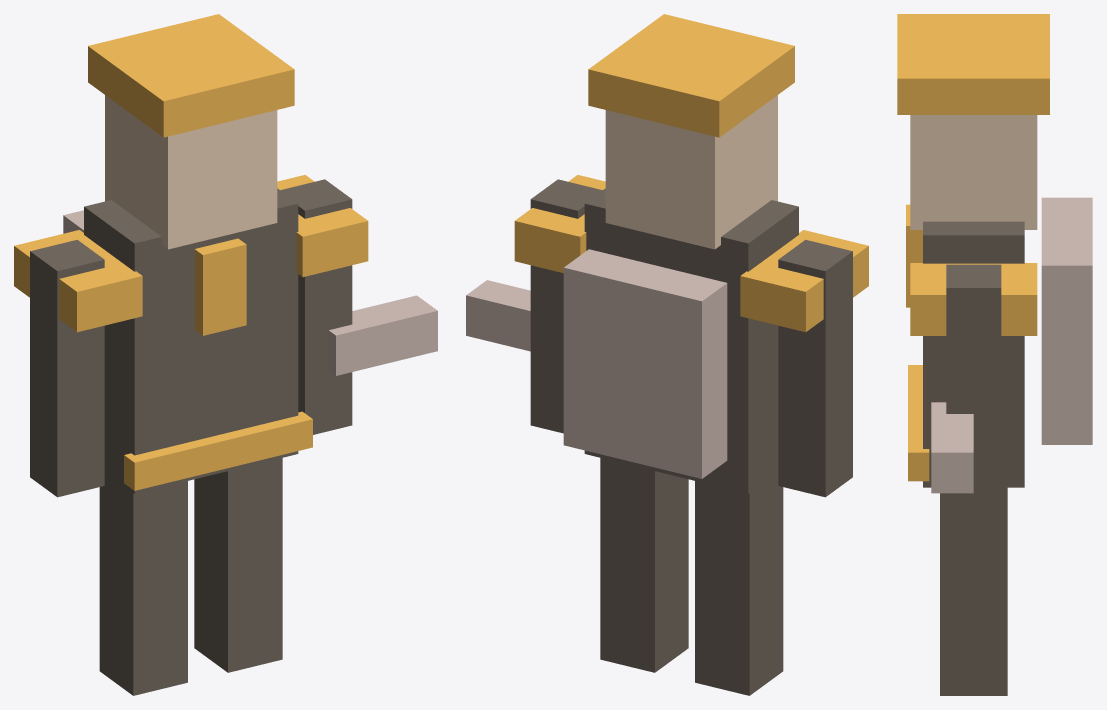
Rendered from 03_asha_holloway_custodian_near_maintenance.glb.
3 renders of one model, left to right at view 1: azimuth 30°, elevation 25°; view 2: azimuth 150°, elevation 25°; view 3: azimuth 270°, elevation 25°, orthographic.
Parts seen in each view (by area): view 1: Asha Holloway, Custodian near Maintenance; view 2: Asha Holloway, Custodian near Maintenance; view 3: Asha Holloway, Custodian near Maintenance.
Part boxes in pixels (box(x1,y1,x2,y2)): Asha Holloway, Custodian near Maintenance: box(14, 14, 437, 695); Asha Holloway, Custodian near Maintenance: box(466, 14, 868, 695); Asha Holloway, Custodian near Maintenance: box(897, 14, 1092, 695).
Size of the model in its own units: 1.08 by 1.67 by 0.4826.
